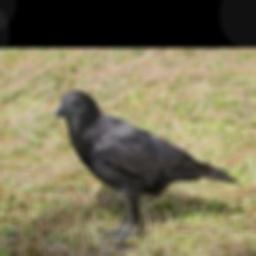Crow: (58, 89, 244, 252)
